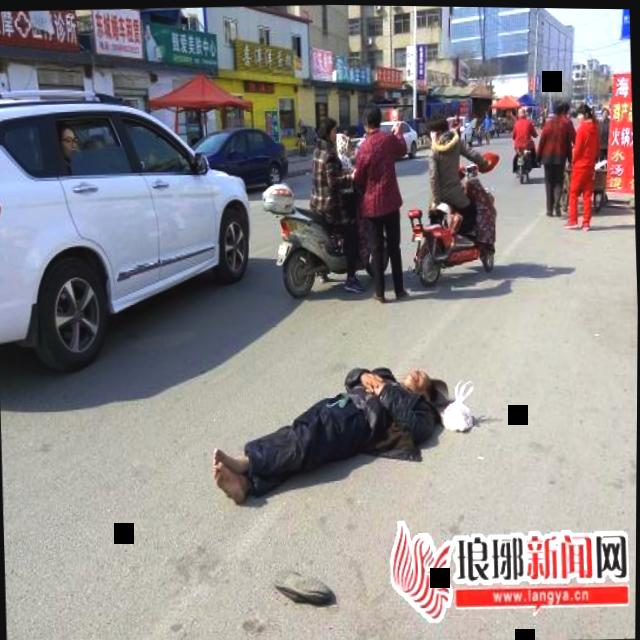Fall-Detected: (196, 341, 461, 509)
